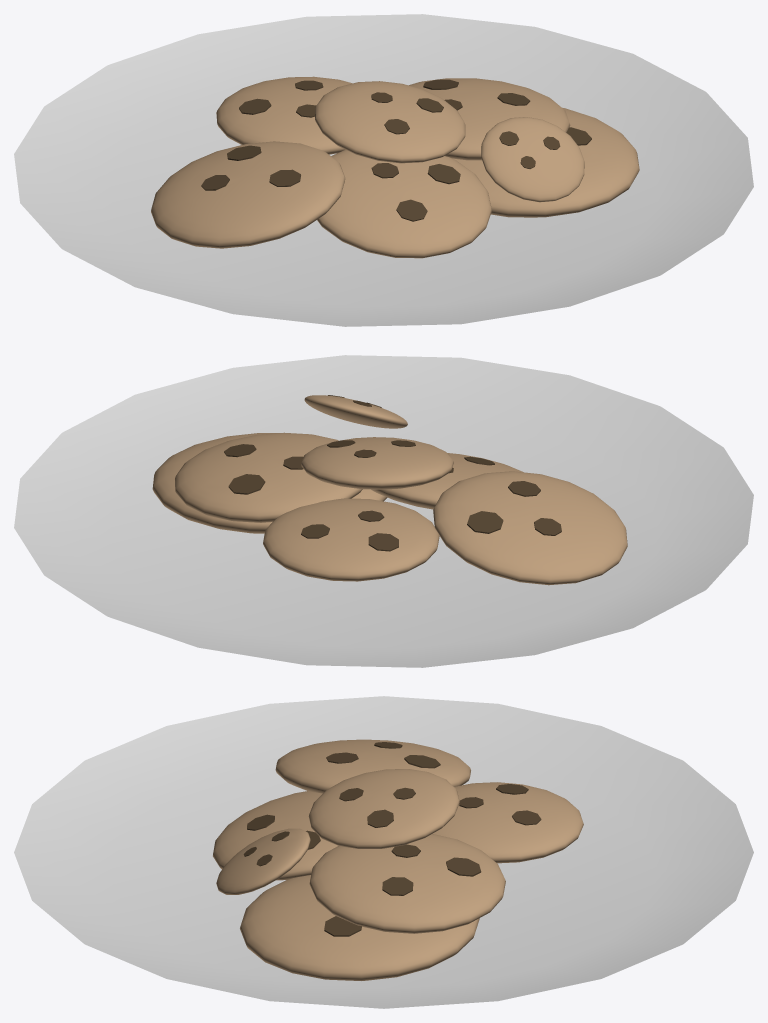
File: plate.fbx
3 renders of one model, top to bottom at view 1: azimuth 30°, elevation 25°; view 2: azimuth 150°, elevation 25°; view 3: azimuth 270°, elevation 25°, orthographic.
Visible parts, largest first — view 1: pasted__pCylinder1, pasted__pasted__Chocolate_Chip3 (×3), pasted__pasted__Chocolate_Chip7, pasted__pasted__Chocolate_Chip6, pasted__pasted__Chocolate_Chip4, pasted__pasted__Chocolate_Chip8; view 2: pasted__pCylinder1, pasted__pasted__Chocolate_Chip3 (×3), pasted__pasted__Chocolate_Chip8, pasted__pasted__Chocolate_Chip6, pasted__pasted__Chocolate_Chip4, pasted__pasted__Chocolate_Chip7; view 3: pasted__pCylinder1, pasted__pasted__Chocolate_Chip3 (×3), pasted__pasted__Chocolate_Chip8, pasted__pasted__Chocolate_Chip4, pasted__pasted__Chocolate_Chip6, pasted__pasted__Chocolate_Chip7.
Boxes of the visible parts, left/top/right/bottom form: pasted__pCylinder1: left=14, top=14, right=753, bottom=326; pasted__pasted__Chocolate_Chip3 (×3): left=151, top=76, right=584, bottom=248; pasted__pasted__Chocolate_Chip7: left=317, top=149, right=491, bottom=258; pasted__pasted__Chocolate_Chip6: left=315, top=81, right=465, bottom=163; pasted__pasted__Chocolate_Chip4: left=453, top=107, right=639, bottom=217; pasted__pasted__Chocolate_Chip8: left=409, top=78, right=570, bottom=160; pasted__pCylinder1: left=14, top=355, right=753, bottom=667; pasted__pasted__Chocolate_Chip3 (×3): left=263, top=395, right=627, bottom=585; pasted__pasted__Chocolate_Chip8: left=175, top=432, right=362, bottom=522; pasted__pasted__Chocolate_Chip6: left=301, top=437, right=453, bottom=489; pasted__pasted__Chocolate_Chip4: left=152, top=433, right=387, bottom=533; pasted__pasted__Chocolate_Chip7: left=371, top=453, right=523, bottom=509; pasted__pCylinder1: left=14, top=696, right=753, bottom=1008; pasted__pasted__Chocolate_Chip3 (×3): left=216, top=739, right=583, bottom=894; pasted__pasted__Chocolate_Chip8: left=309, top=834, right=505, bottom=933; pasted__pasted__Chocolate_Chip4: left=240, top=875, right=479, bottom=980; pasted__pasted__Chocolate_Chip6: left=308, top=769, right=459, bottom=848; pasted__pasted__Chocolate_Chip7: left=213, top=791, right=338, bottom=880.
Size of the model in its own units: 2.26 by 0.3925 by 2.26.
